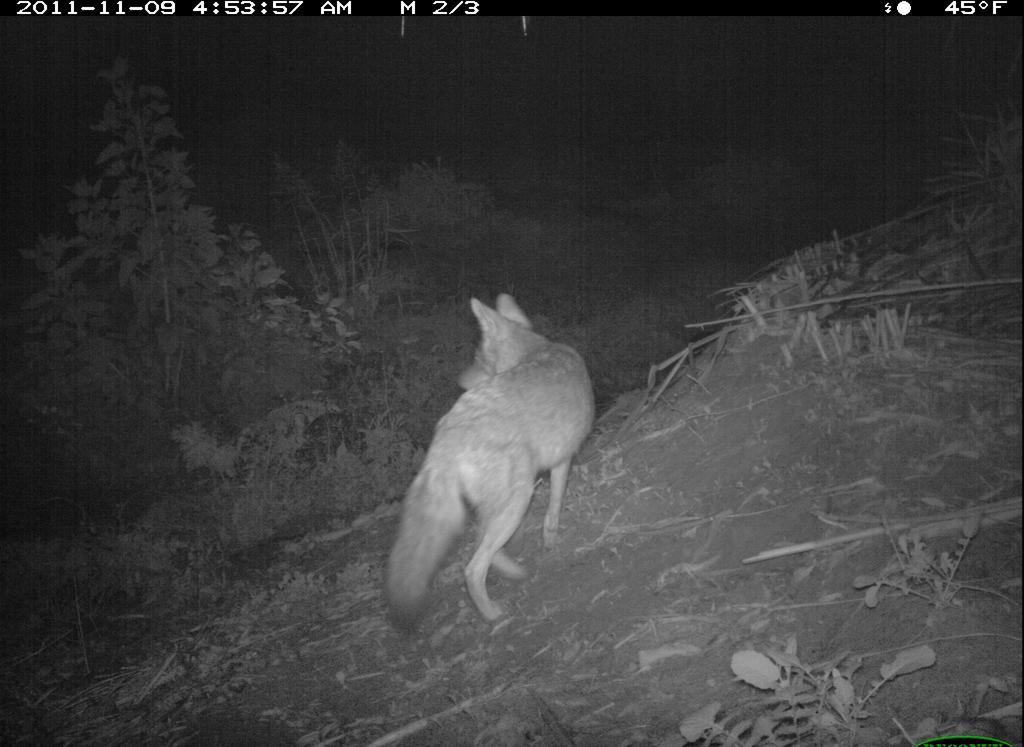coyote: (379, 289, 600, 628)
